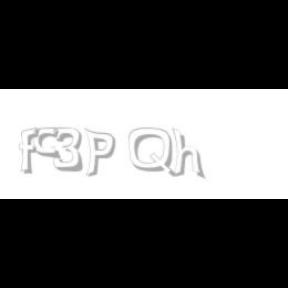3: (54, 128, 84, 172)
P: (84, 128, 116, 178)
Q: (129, 128, 175, 178)
c: (34, 128, 62, 160)
f: (19, 128, 43, 174)
h: (172, 128, 206, 180)
